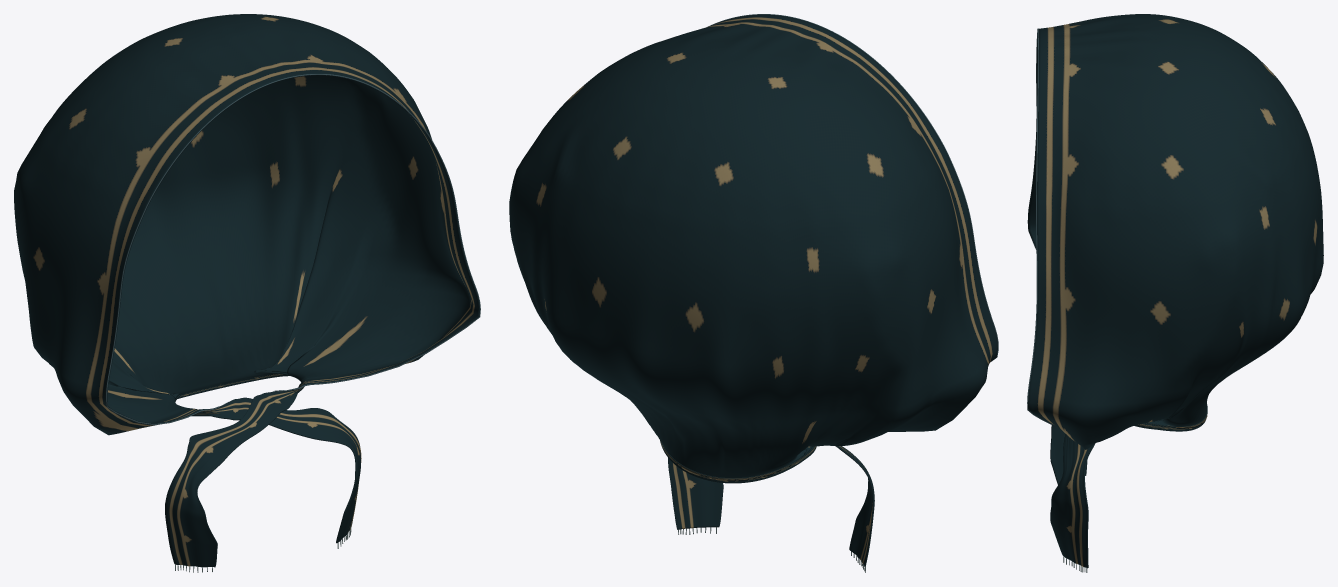
Rendered from Feminine-twin-braids-jersey-pashmina249-headgear.glb.
3 views of the same model, side by side, from view 1: azimuth 30°, elevation 25°; view 2: azimuth 150°, elevation 25°; view 3: azimuth 270°, elevation 25° (orthographic). The views are drawn at different scales.
Parts seen in each view (by area): view 1: 226 headgear / Headwear / continuous woven pashmina239, 226 headgear / Headwear / face edge239; view 2: 226 headgear / Headwear / continuous woven pashmina239, 226 headgear / Headwear / face edge239; view 3: 226 headgear / Headwear / continuous woven pashmina239, 226 headgear / Headwear / face edge239.
Part boxes in pixels (<box>): 226 headgear / Headwear / continuous woven pashmina239: <box>14,14,479,567</box>; 226 headgear / Headwear / face edge239: <box>106,74,480,425</box>; 226 headgear / Headwear / continuous woven pashmina239: <box>509,14,997,566</box>; 226 headgear / Headwear / face edge239: <box>707,14,998,362</box>; 226 headgear / Headwear / continuous woven pashmina239: <box>1028,14,1323,568</box>; 226 headgear / Headwear / face edge239: <box>1027,28,1052,424</box>.
Size of the model in its own units: 1.14 by 1.36 by 0.7403.
Materials: 3 (1 with a texture image).
